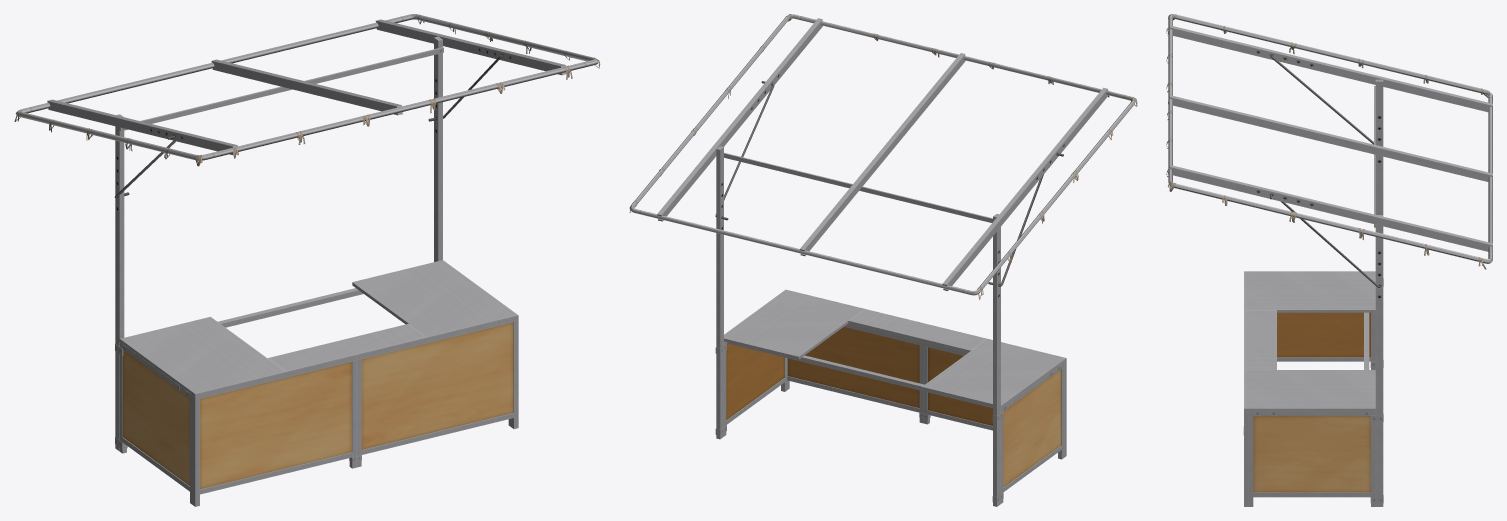
File: jsf_2P_s02_c05_t02.fbx
3 renders of one model, left to right at view 1: azimuth 30°, elevation 25°; view 2: azimuth 150°, elevation 25°; view 3: azimuth 270°, elevation 25°, orthographic. The views are drawn at different scales.
Visible parts, largest first — view 1: Base_s02_c05, Pillar2_s02, Table_2P_s02_t02, Rope_2P_s02; view 2: Base_s02_c05, Pillar2_s02, Table_2P_s02_t02; view 3: Pillar2_s02, Base_s02_c05, Table_2P_s02_t02, Rope_2P_s02.
Part boxes in pixels (x1=…): Base_s02_c05: x1=115, y1=315, x2=518, y2=506; Pillar2_s02: x1=15, y1=14, x2=597, y2=451; Table_2P_s02_t02: x1=119, y1=260, x2=517, y2=397; Rope_2P_s02: x1=14, y1=15, x2=600, y2=166; Base_s02_c05: x1=715, y1=289, x2=1066, y2=503; Pillar2_s02: x1=629, y1=14, x2=1135, y2=506; Table_2P_s02_t02: x1=724, y1=290, x2=1065, y2=410; Pillar2_s02: x1=1168, y1=14, x2=1492, y2=506; Base_s02_c05: x1=1243, y1=271, x2=1383, y2=506; Table_2P_s02_t02: x1=1245, y1=271, x2=1375, y2=415; Rope_2P_s02: x1=1166, y1=14, x2=1488, y2=269.
Size of the model in its own units: 264 by 244 by 211.
